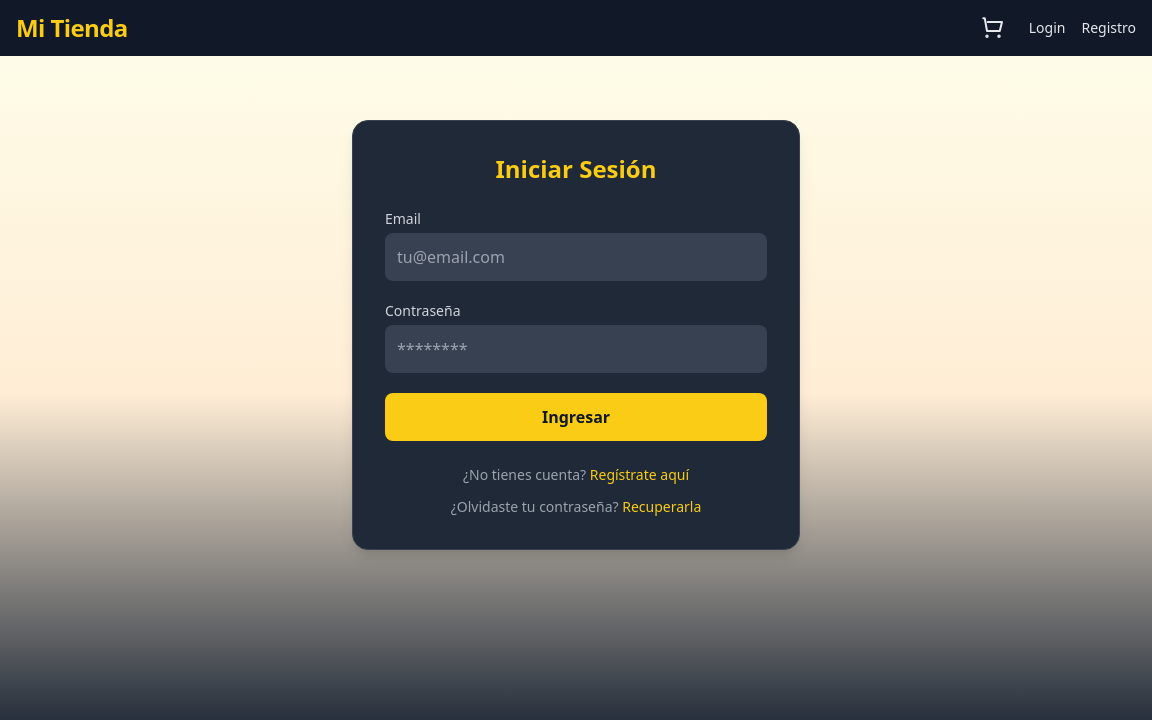
it: links entre login y registro › desde login puedo ir a register
Click the link "Regístrate aquí". click: point(640, 475)
box: [590,465,689,484]
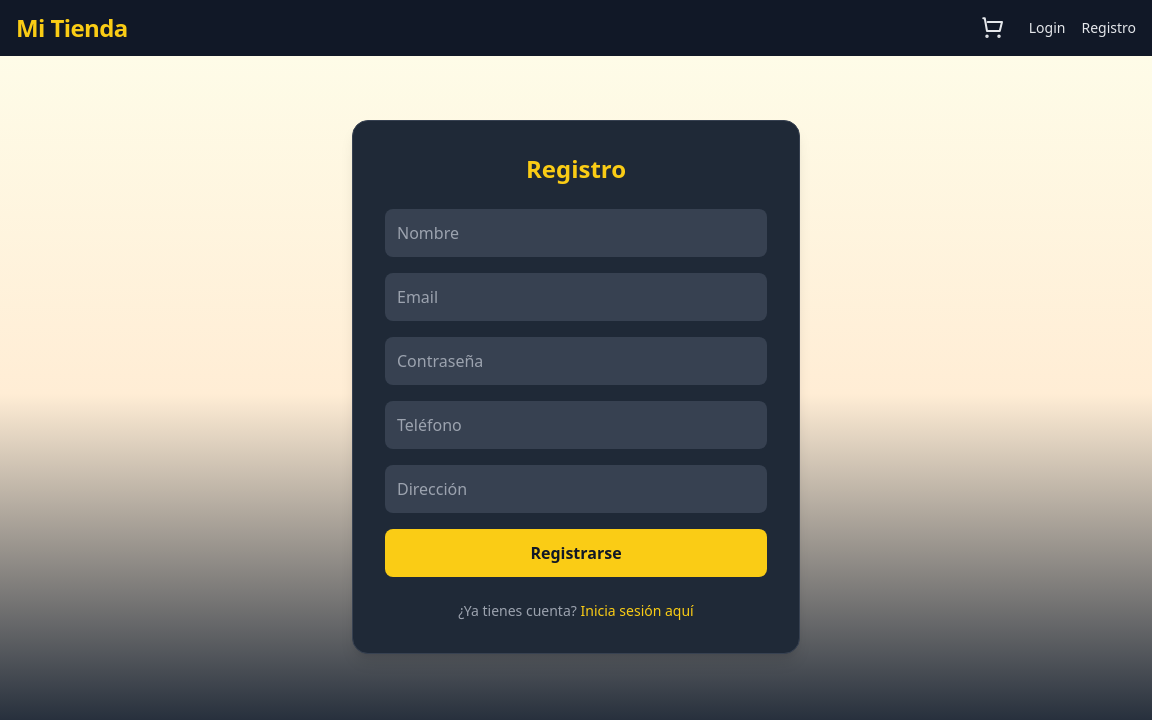
Now the button "Registrarse" is shown, box [385,529,767,577]
